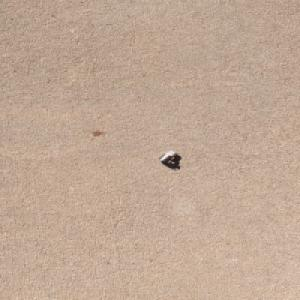MetalPart: (157, 150, 178, 165)
